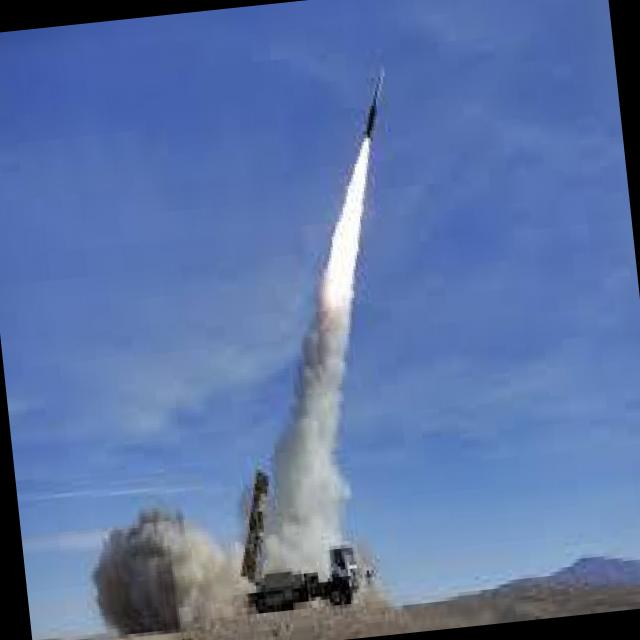rocket: (280, 60, 419, 377)
